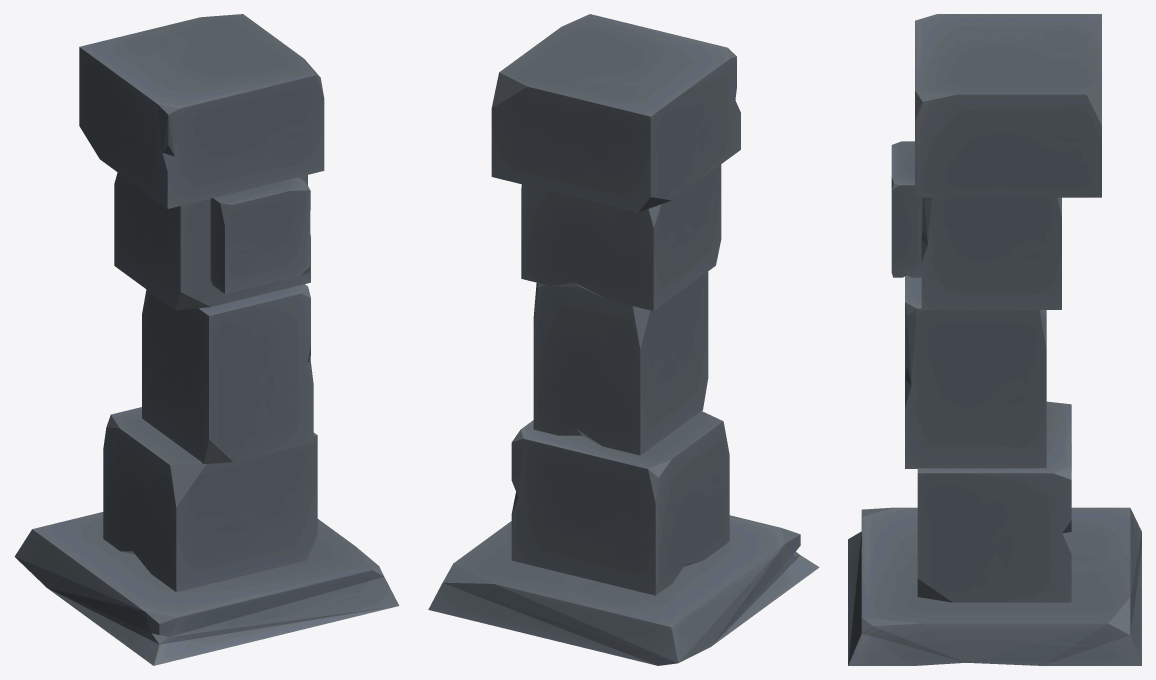
The model's file is Pillar1B-007_02_11_6169.fbx.
The picture shows the model from 3 angles, left to right: view 1: azimuth 30°, elevation 25°; view 2: azimuth 150°, elevation 25°; view 3: azimuth 270°, elevation 25°; orthographic projection. The views are drawn at different scales.
Visible parts, largest first — view 1: 1B_Pillar; view 2: 1B_Pillar; view 3: 1B_Pillar.
Part boxes in pixels (<box>): 1B_Pillar: <box>14,14,399,665</box>; 1B_Pillar: <box>428,14,819,665</box>; 1B_Pillar: <box>848,14,1141,665</box>.
Size of the model in its own units: 2.06 by 4.16 by 2.02.
